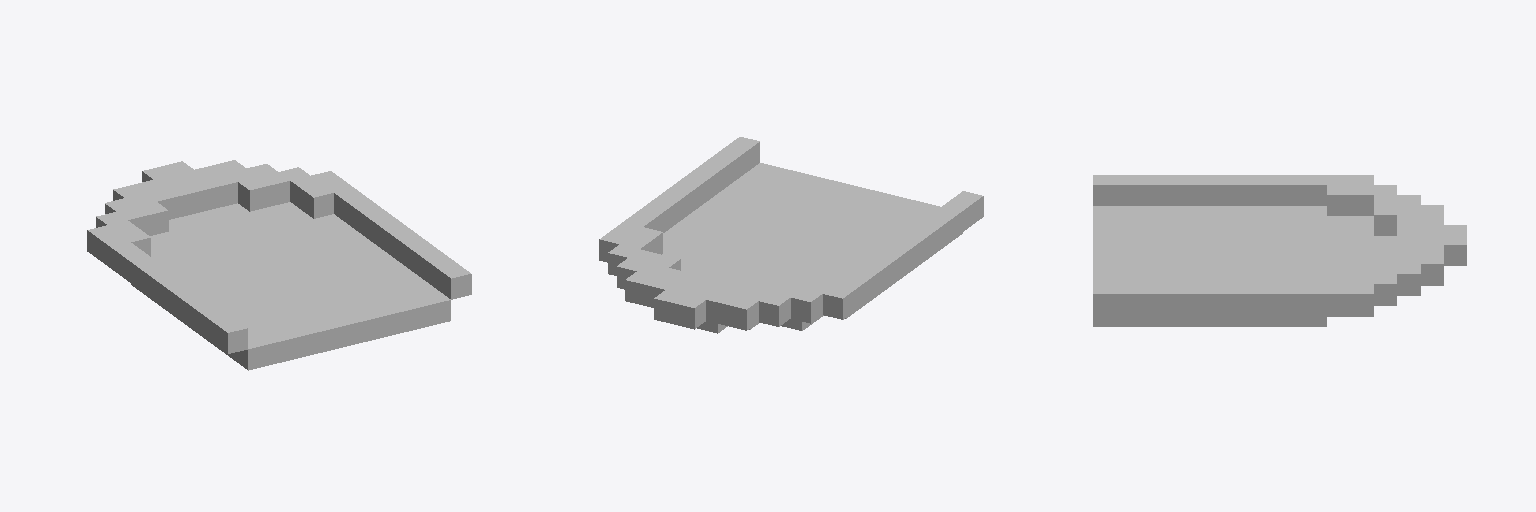
Rendered from Weapons-14-Garden Head.obj.
The picture shows the model from 3 angles: view 1: azimuth 30°, elevation 25°; view 2: azimuth 150°, elevation 25°; view 3: azimuth 270°, elevation 25°; orthographic projection.
Parts seen in each view (by area): view 1: Garden Head; view 2: Garden Head; view 3: Garden Head.
Part boxes in pixels (left/top/right/bottom): Garden Head: left=87, top=160, right=471, bottom=370; Garden Head: left=599, top=137, right=983, bottom=333; Garden Head: left=1093, top=175, right=1466, bottom=326.
Size of the model in its own units: 1.2 by 0.2 by 1.6.